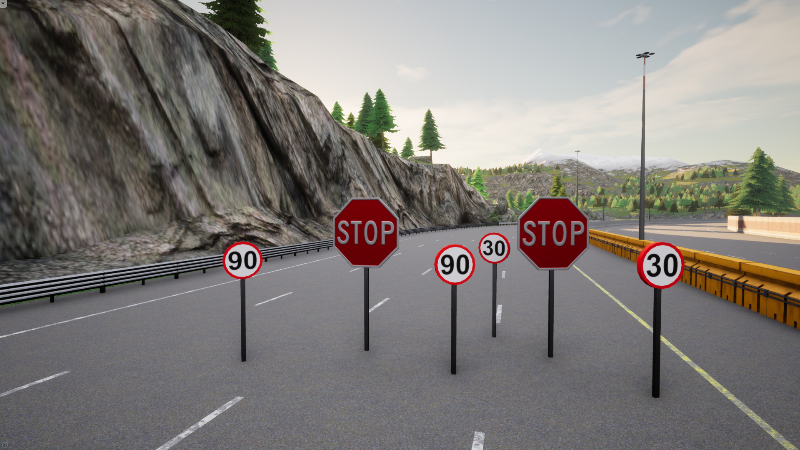fast: (434, 244, 476, 286), (222, 241, 263, 279)
slow: (637, 242, 684, 288), (478, 233, 510, 264)
stop: (517, 198, 589, 270), (333, 197, 400, 267)
